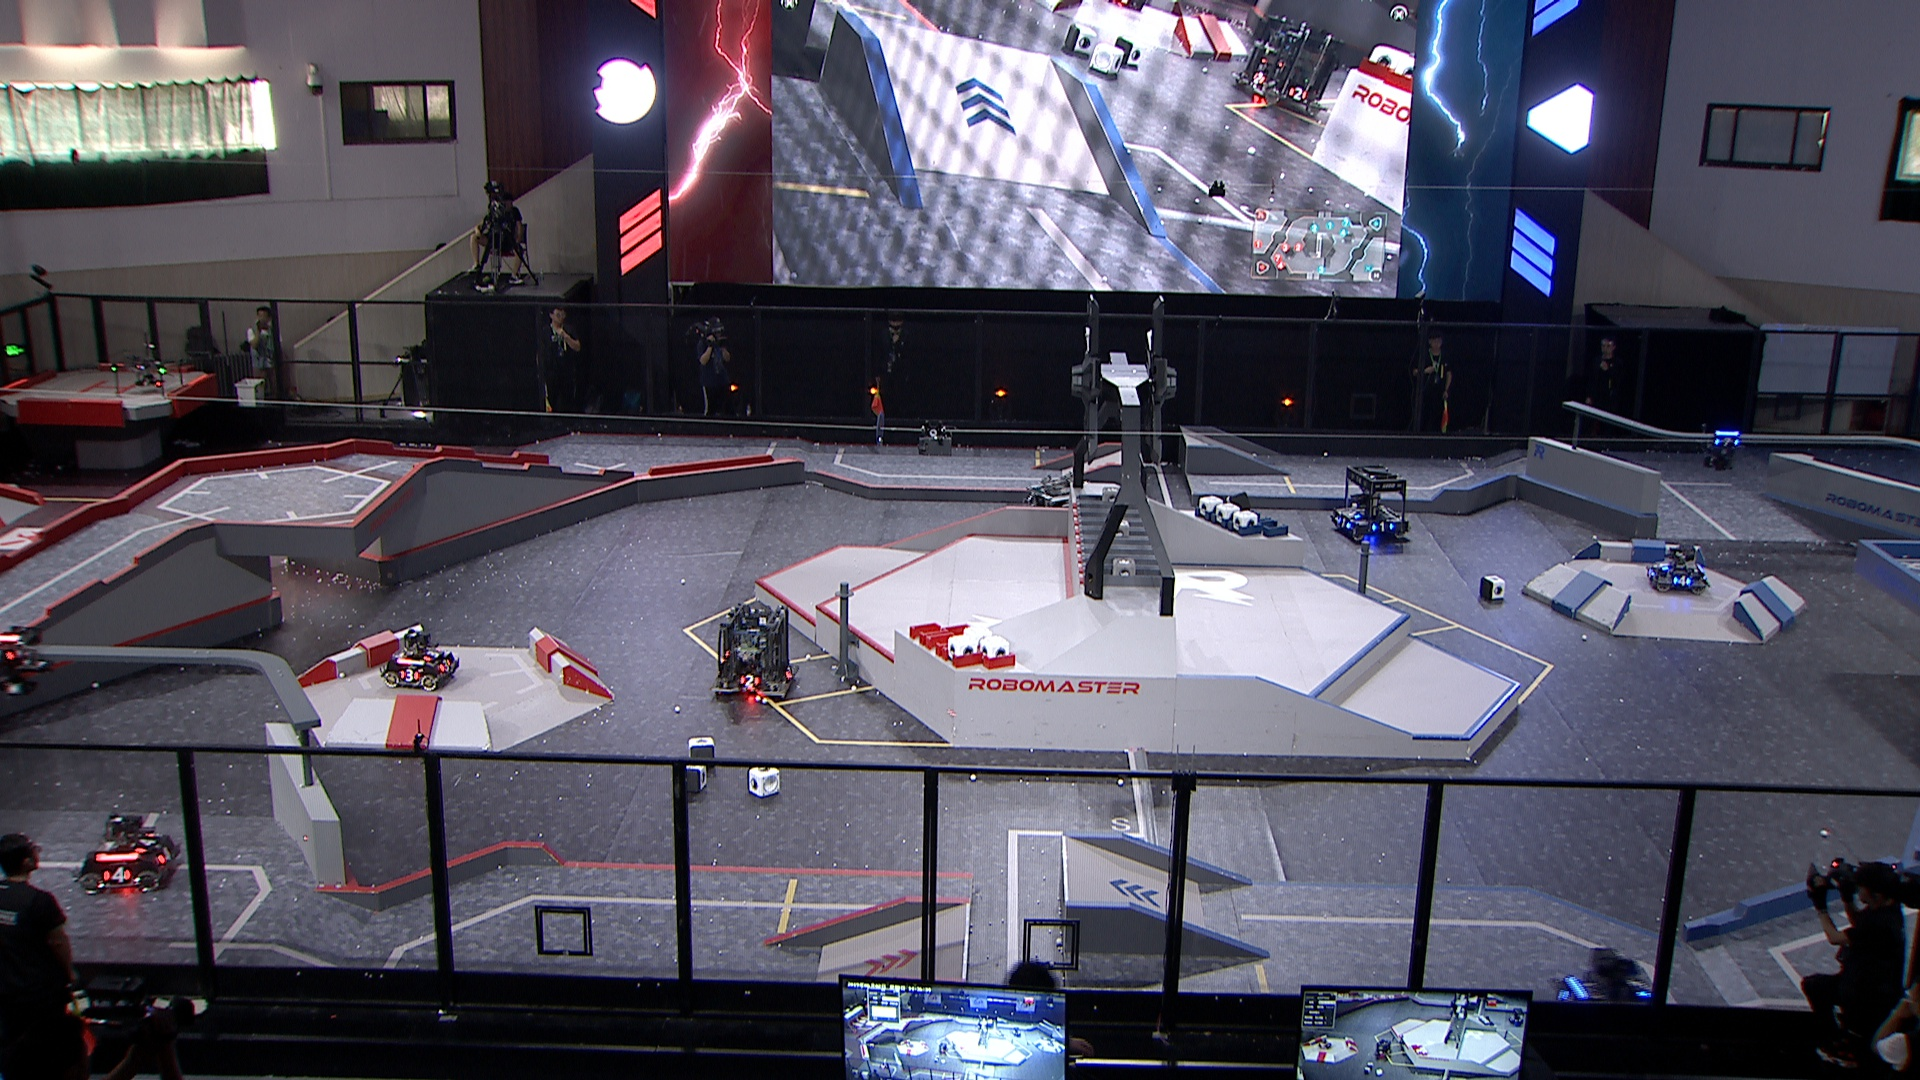armor: (103, 866, 131, 885), (135, 832, 158, 853), (1713, 434, 1741, 447), (396, 666, 419, 680), (438, 655, 455, 675), (158, 843, 173, 865), (738, 674, 760, 688), (1370, 520, 1393, 533), (1335, 516, 1352, 531), (1342, 506, 1362, 520), (1671, 574, 1692, 585), (783, 665, 795, 680), (427, 646, 440, 659), (1644, 568, 1656, 580), (1656, 560, 1669, 571)
car: (707, 597, 804, 704), (1556, 942, 1665, 1035), (1022, 463, 1120, 556), (78, 808, 182, 895), (1328, 462, 1414, 545), (384, 624, 458, 694), (1642, 537, 1712, 597)
ignore: (1232, 12, 1352, 125), (1371, 1036, 1393, 1059), (1506, 1006, 1524, 1026), (935, 1040, 951, 1058), (1010, 1025, 1022, 1038)
watcher: (1697, 419, 1743, 471)
